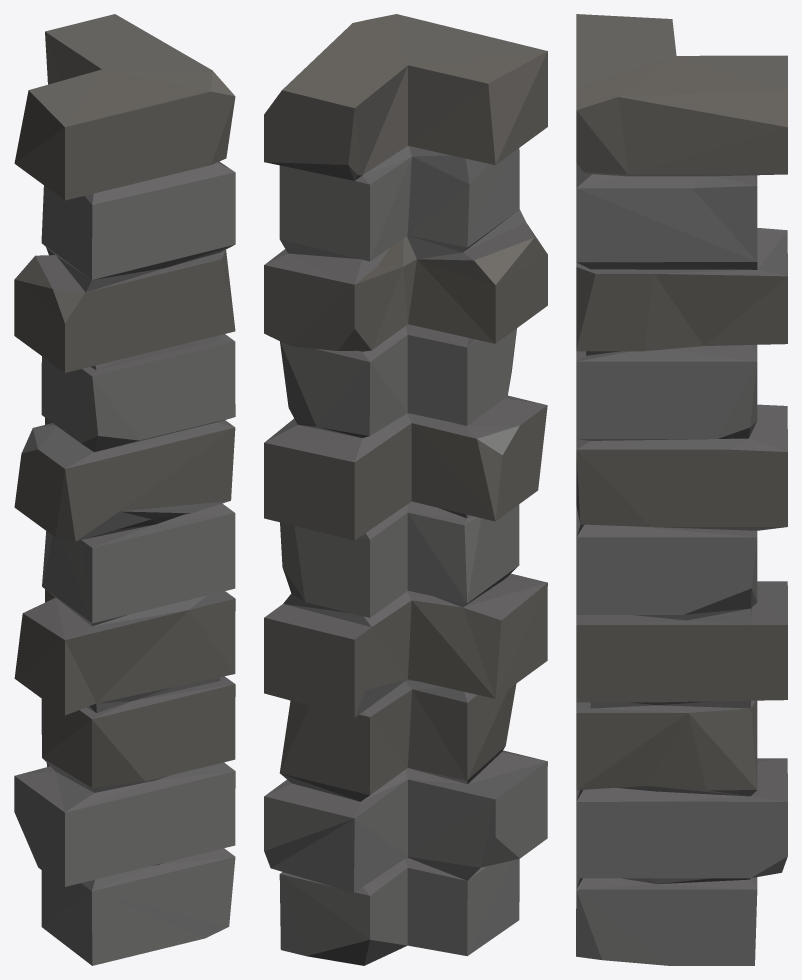
File: SM_Env_Wall_End_Coner_Inner_01.FBX
The picture shows the model from 3 angles, left to right: view 1: azimuth 30°, elevation 25°; view 2: azimuth 150°, elevation 25°; view 3: azimuth 270°, elevation 25°; orthographic projection. The views are drawn at different scales.
Visible parts, largest first — view 1: SM_Env_Wall_End_Coner_Inner_01; view 2: SM_Env_Wall_End_Coner_Inner_01; view 3: SM_Env_Wall_End_Coner_Inner_01.
Boxes of the visible parts, <box> form: SM_Env_Wall_End_Coner_Inner_01: <box>14,14,235,965</box>; SM_Env_Wall_End_Coner_Inner_01: <box>264,14,547,965</box>; SM_Env_Wall_End_Coner_Inner_01: <box>576,14,787,965</box>.
Size of what is drawn, in the model's own units: 106 by 111 by 503.
